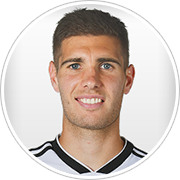face: (46, 44, 138, 120)
